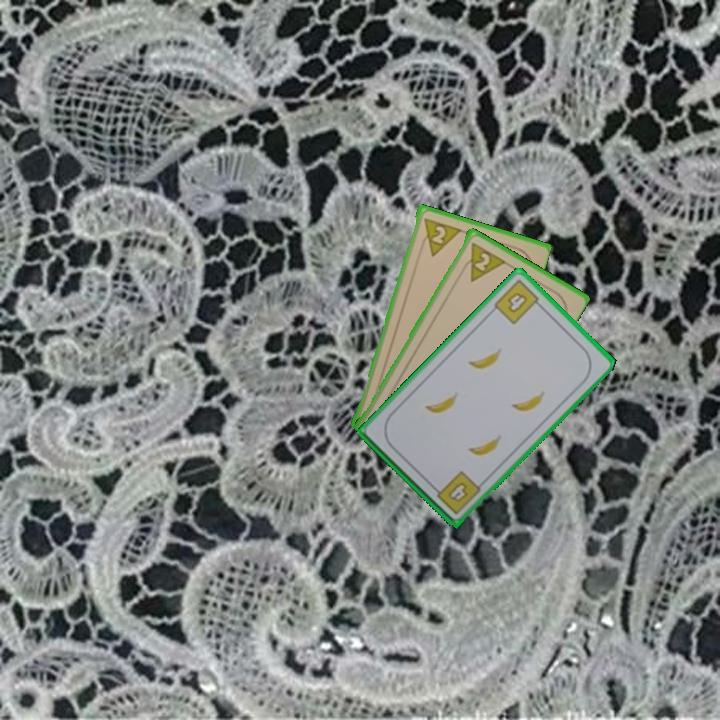2p: (457, 238, 507, 284), (417, 214, 462, 259)
4b: (490, 276, 546, 327), (429, 467, 484, 518)
